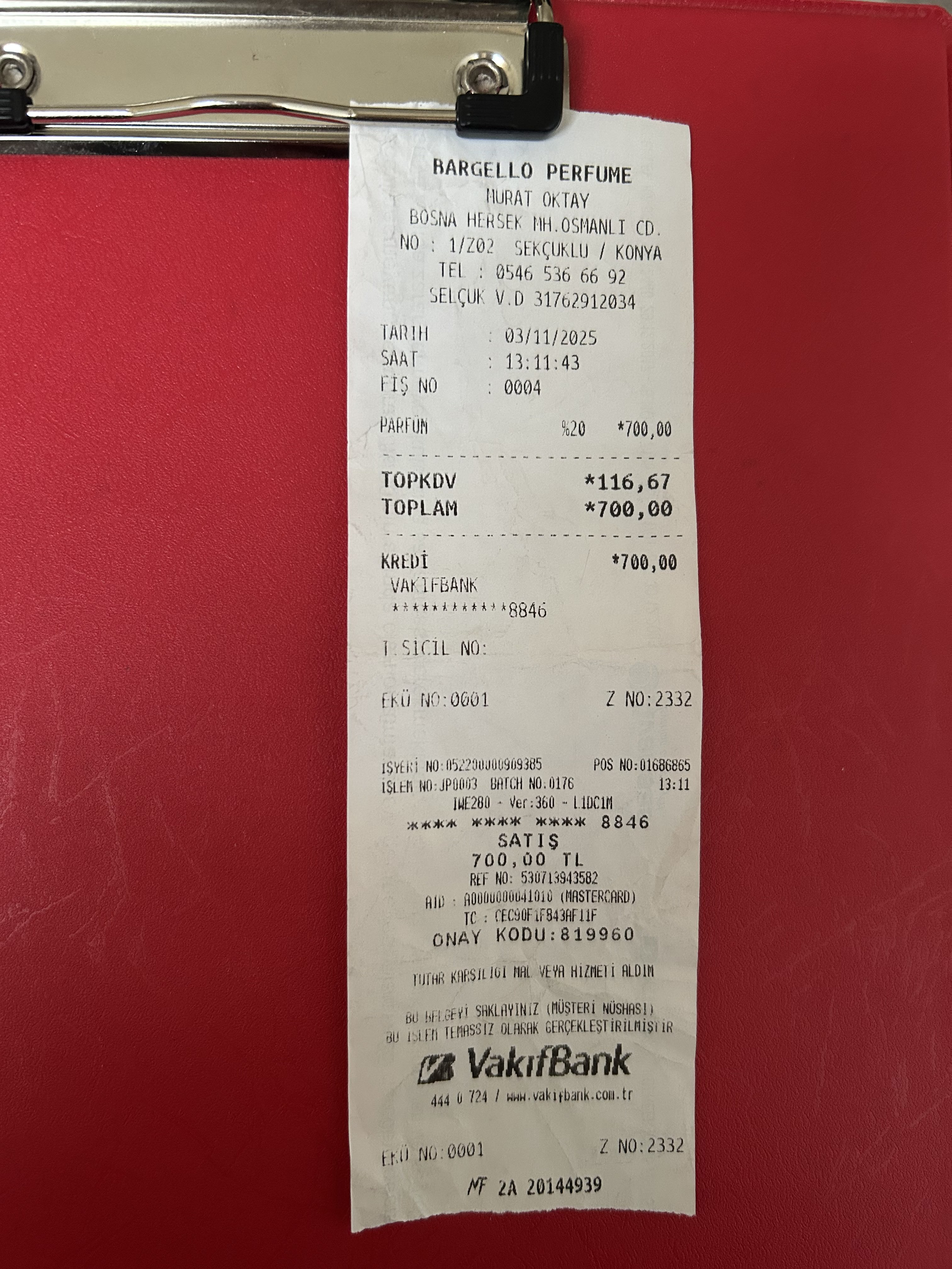date: (596, 494, 678, 527)
price: (501, 324, 604, 350)
workplace: (394, 153, 673, 267)
